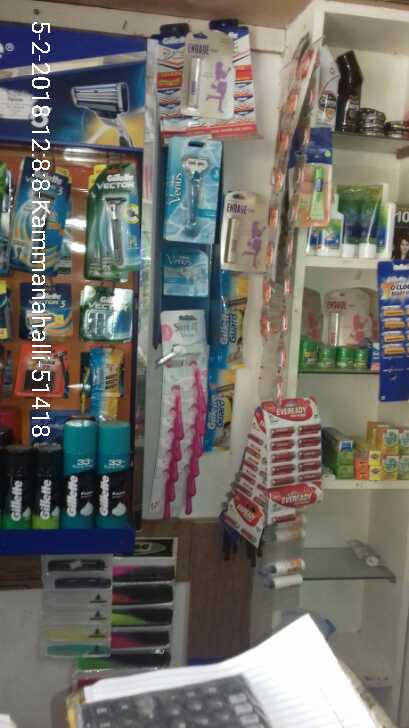beauty: (12, 159, 77, 273), (165, 134, 220, 249), (91, 157, 144, 268), (94, 417, 133, 526), (66, 415, 97, 530), (81, 282, 138, 344), (87, 346, 127, 422), (36, 440, 68, 531), (202, 363, 235, 446), (5, 443, 36, 527), (21, 285, 65, 339), (215, 292, 247, 362), (164, 252, 207, 291)
